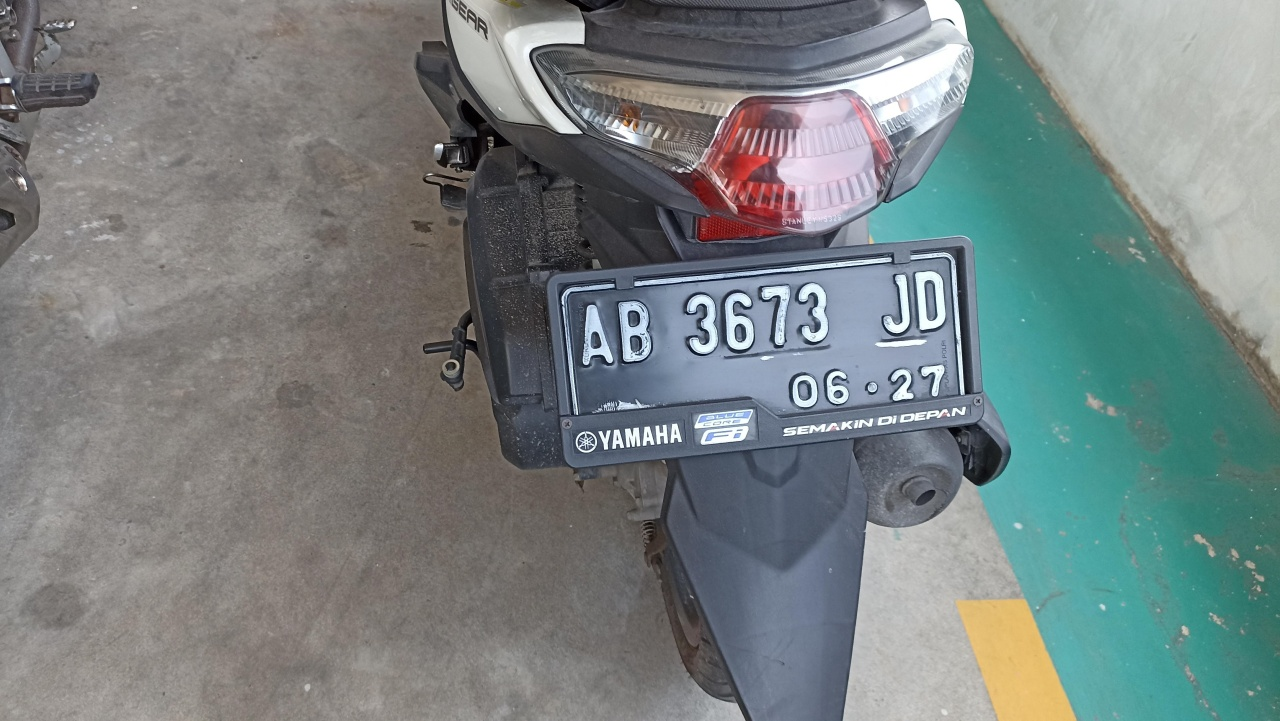plate: (559, 243, 979, 464)
